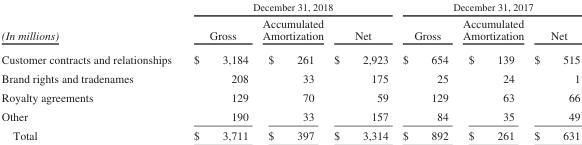table: (0, 1, 579, 141)
table column: (0, 1, 182, 141), (254, 1, 328, 141), (454, 1, 528, 141), (182, 1, 254, 141), (328, 1, 394, 141), (394, 1, 454, 141), (528, 1, 579, 141)
table column header: (0, 1, 579, 46)
table row: (0, 14, 579, 46), (0, 46, 579, 68), (0, 68, 579, 87), (0, 87, 579, 106), (0, 106, 579, 125), (0, 125, 579, 141), (0, 1, 579, 14)
table spanning cell: (0, 1, 182, 46), (182, 1, 394, 14), (394, 1, 579, 14)
